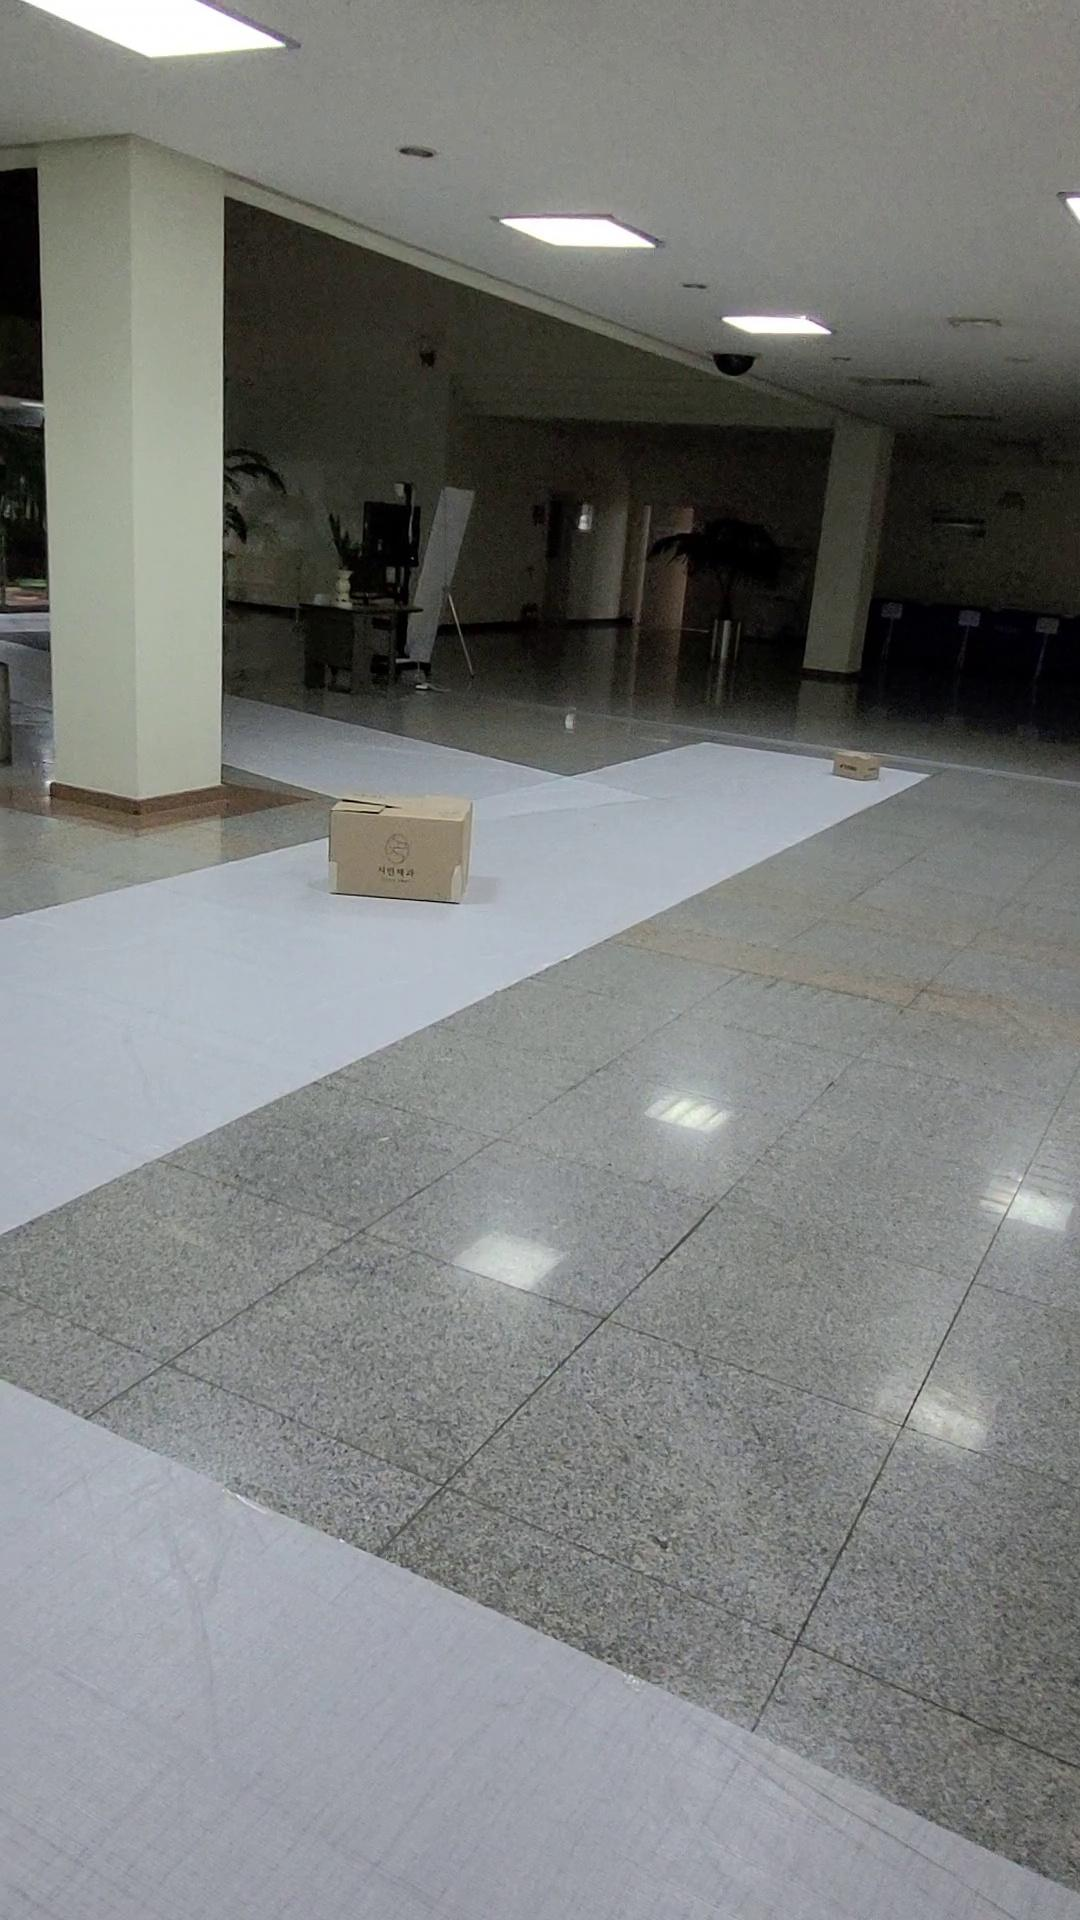Box: (303, 778, 495, 930), (803, 717, 928, 814)
